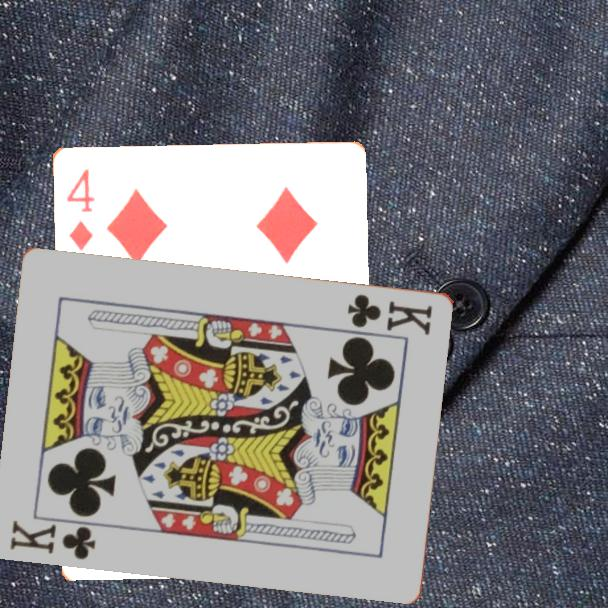c13: (344, 290, 436, 338), (7, 516, 99, 562)
d04: (63, 165, 97, 253)
